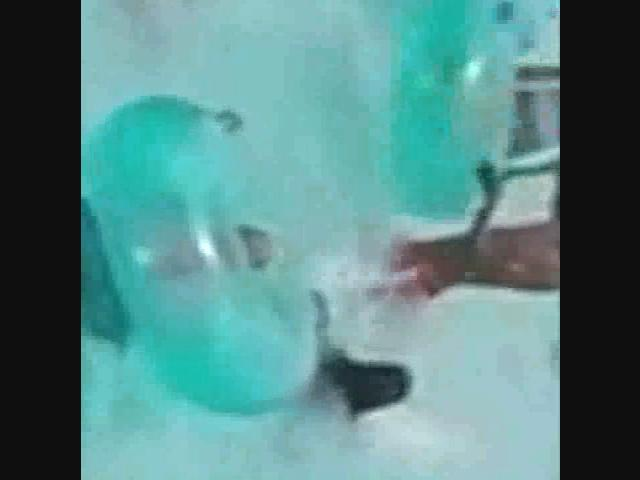drowning: (305, 287, 441, 480)
swimming: (380, 217, 560, 318)
